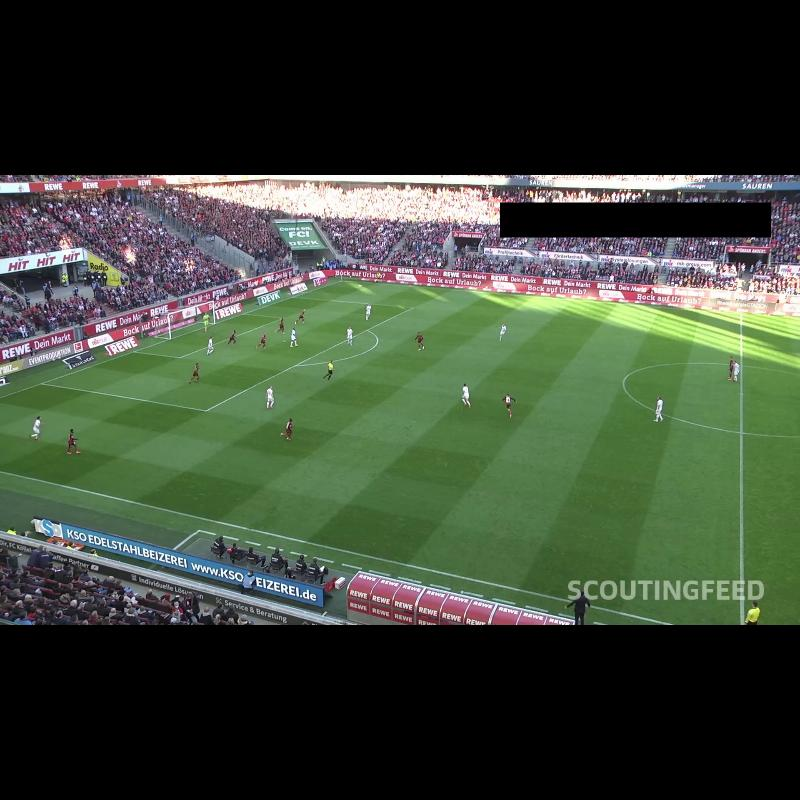cross_recipient_zone: (42, 297, 414, 410)
crossing_player_zone: (0, 383, 337, 521), (293, 281, 533, 316)
pitch: (0, 281, 800, 625)
